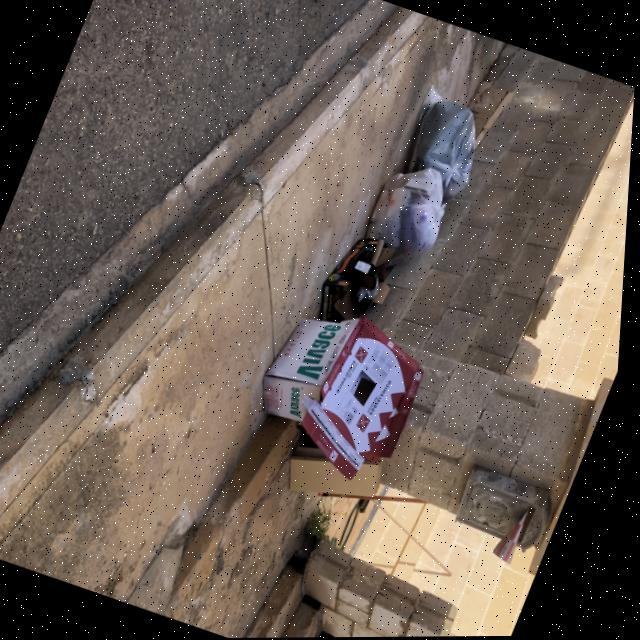Organic Waste -White Bag-: (390, 81, 500, 197), (363, 161, 465, 265)
Other: (248, 300, 438, 470), (316, 230, 406, 338)
